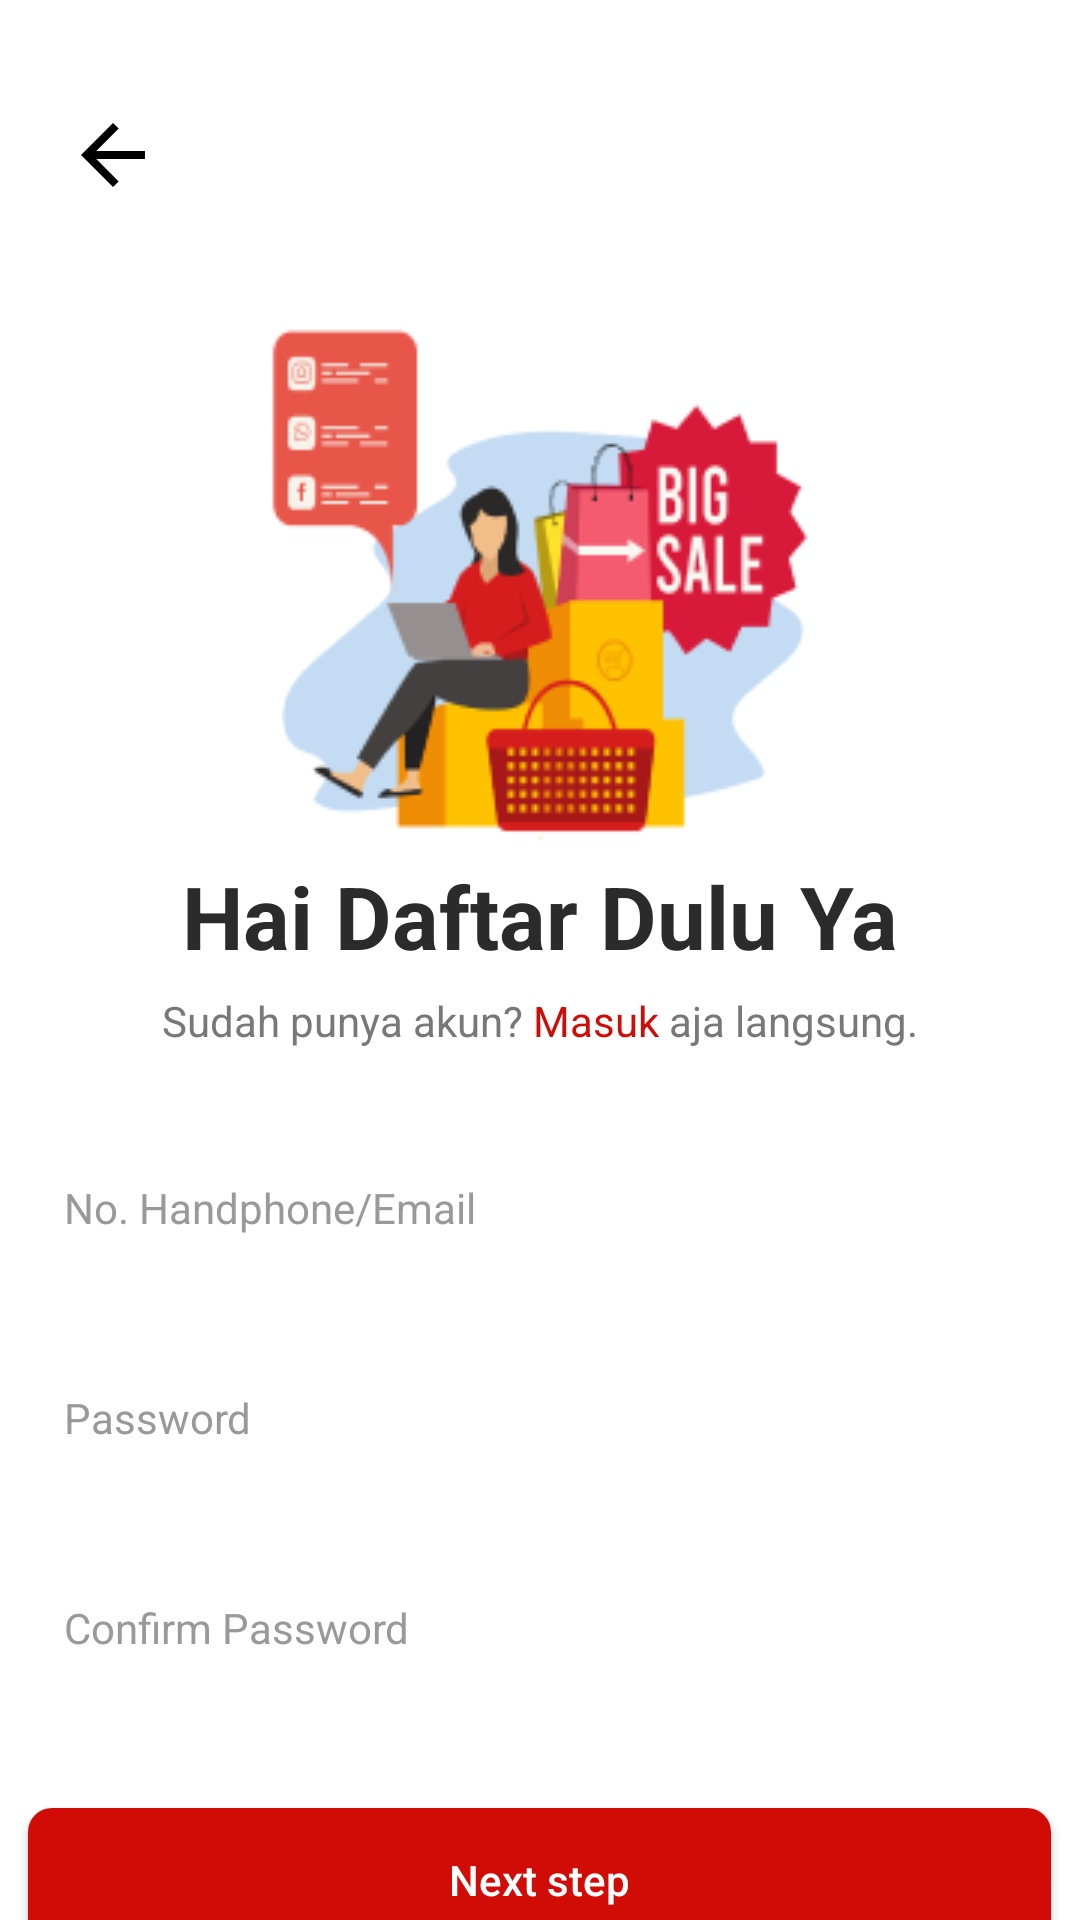

Screen size 1080*1920. Icon name, then its center in pixels as (x=x, y=y):
arrow: (x=113, y=155)
